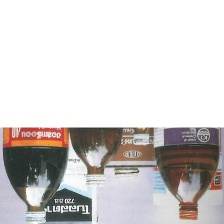book: (28, 98, 102, 223), (93, 92, 166, 170)
insecticide: (149, 84, 221, 223), (0, 80, 69, 223), (69, 81, 125, 190), (126, 76, 159, 146)
